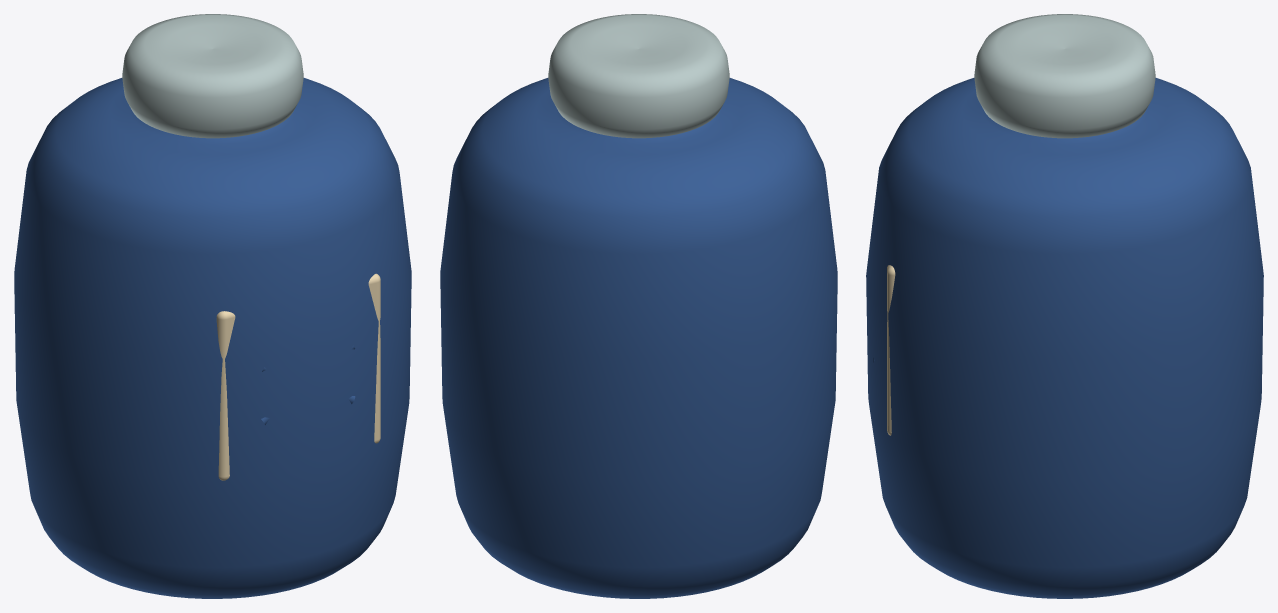
Rendered from bonus-cooling.glb.
3 renders of one model, left to right at view 1: azimuth 30°, elevation 25°; view 2: azimuth 150°, elevation 25°; view 3: azimuth 270°, elevation 25°, orthographic.
Parts seen in each view (by area): view 1: blue, steel, cream; view 2: blue, steel; view 3: blue, steel, cream.
Part boxes in pixels (left/top/right/bottom): blue: left=14, top=78, right=411, bottom=598; steel: left=122, top=14, right=303, bottom=138; cream: left=216, top=273, right=380, bottom=480; blue: left=440, top=78, right=837, bottom=598; steel: left=548, top=14, right=729, bottom=138; blue: left=866, top=78, right=1263, bottom=598; steel: left=974, top=14, right=1155, bottom=138; cream: left=887, top=265, right=895, bottom=435.
Size of the model in its own units: 0.5293 by 0.7352 by 0.5293.
